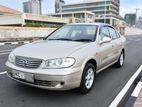car: (5, 24, 127, 93)
